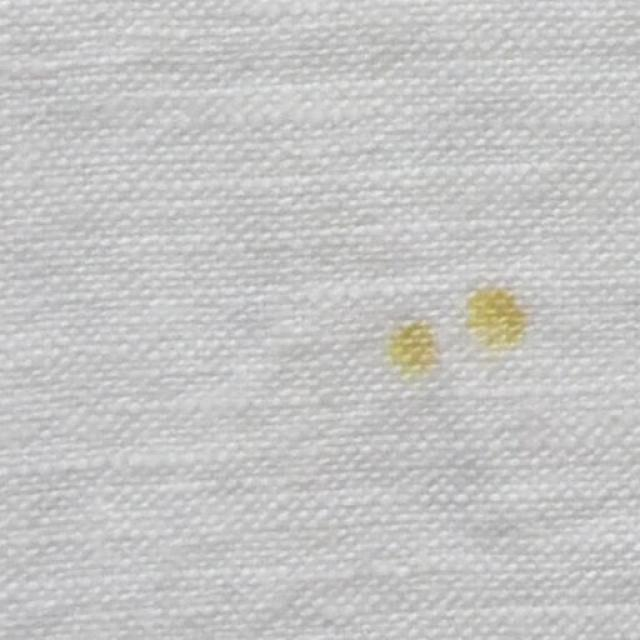Stain: (391, 329, 440, 378), (473, 292, 522, 341)
